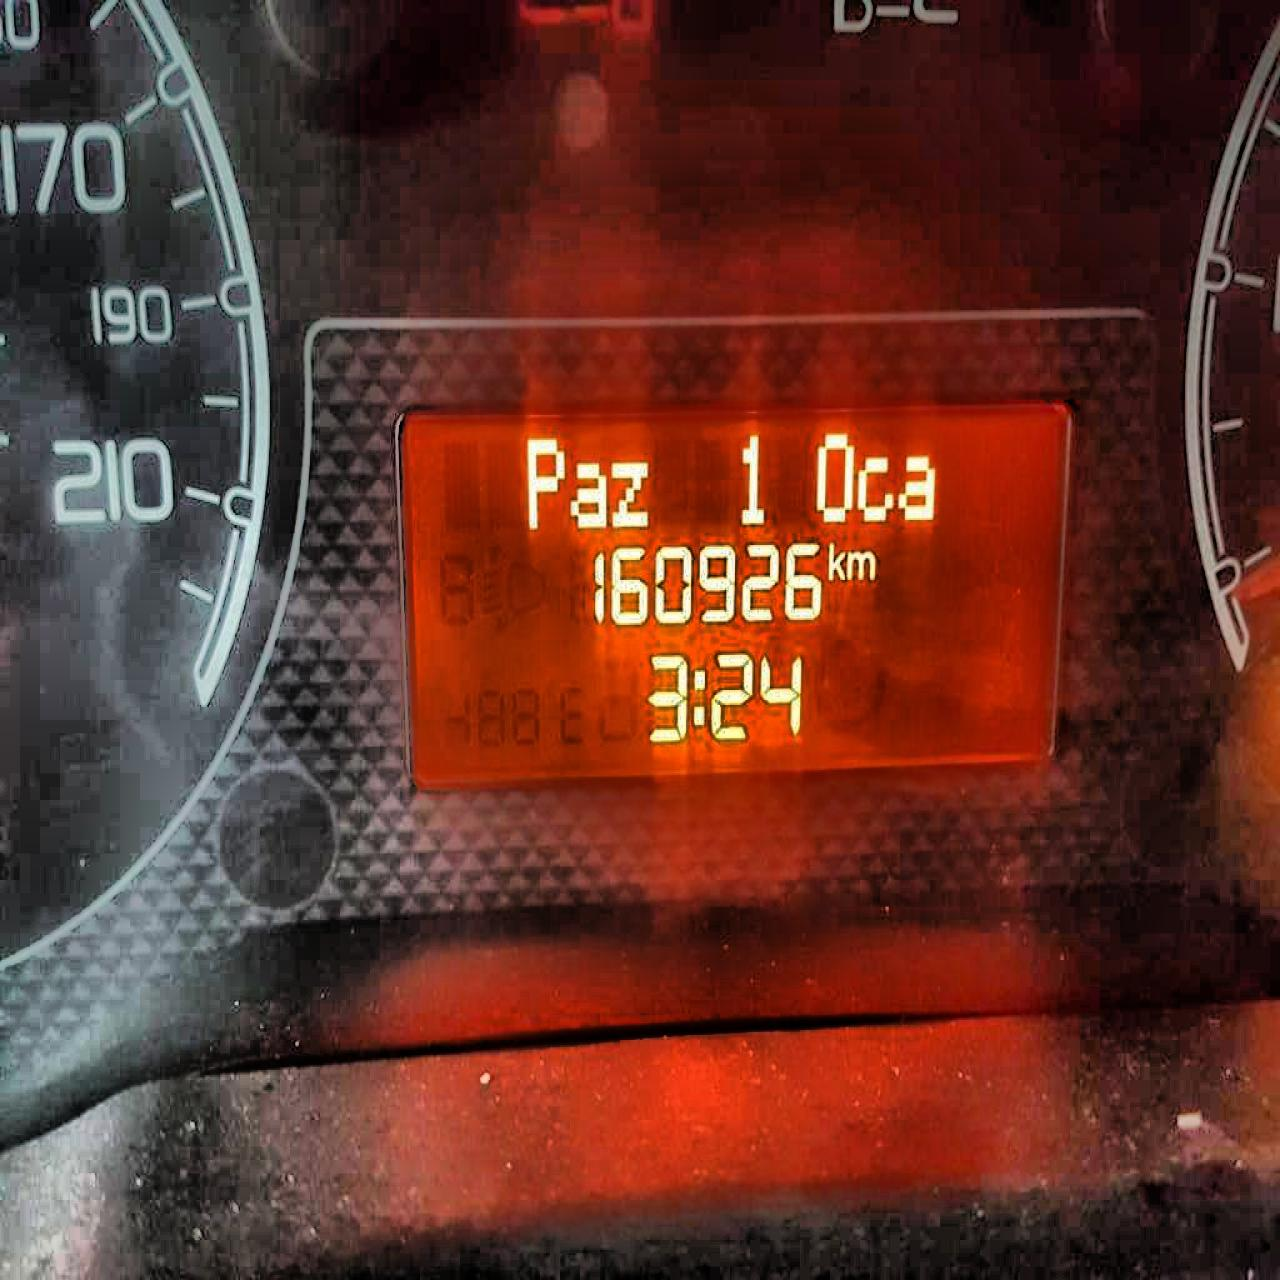0: (653, 539, 692, 624)
1: (737, 420, 770, 530), (588, 545, 605, 632)
2: (710, 648, 753, 749), (741, 538, 778, 627)
3: (647, 652, 687, 743)
4: (758, 651, 803, 737)
6: (610, 540, 649, 625), (784, 538, 822, 624)
9: (697, 544, 736, 624)
X: (525, 434, 564, 533), (815, 427, 855, 522), (610, 455, 651, 526), (568, 457, 607, 530), (856, 451, 893, 523), (899, 451, 935, 523), (845, 545, 874, 580), (690, 662, 704, 734), (826, 538, 844, 580)
odometer: (394, 395, 1074, 788)
